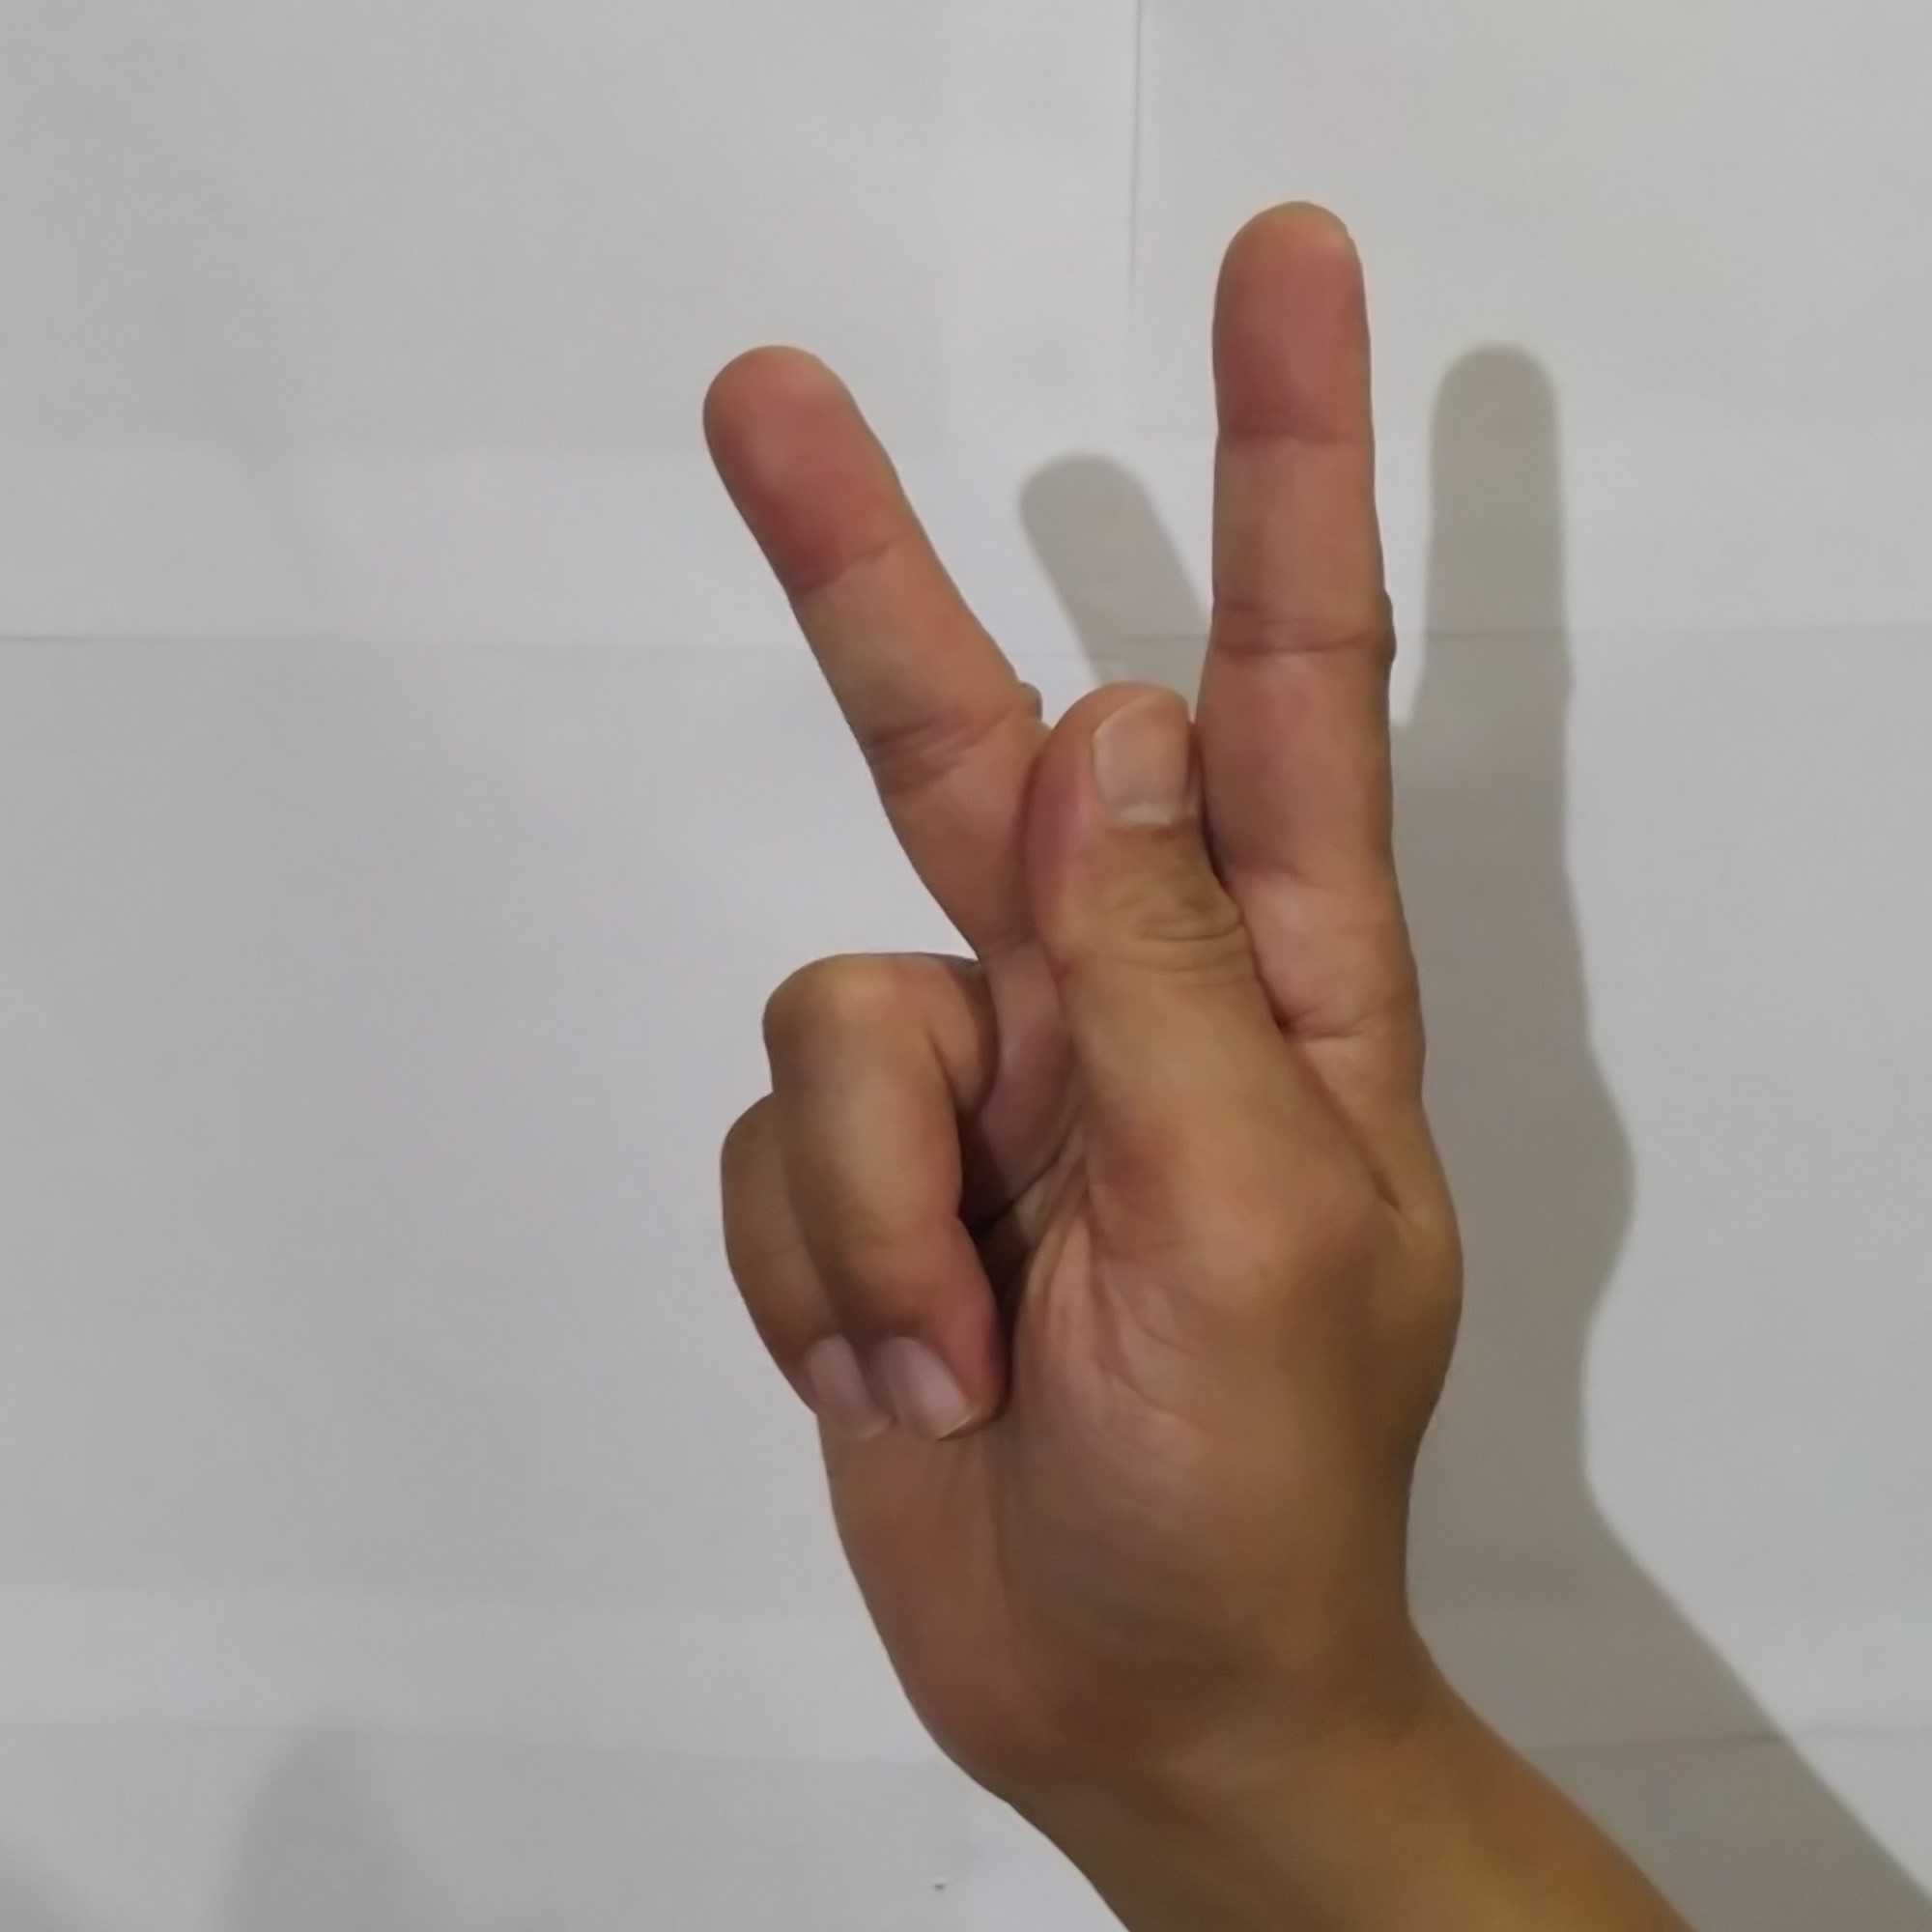K: (671, 177, 1488, 1743)
